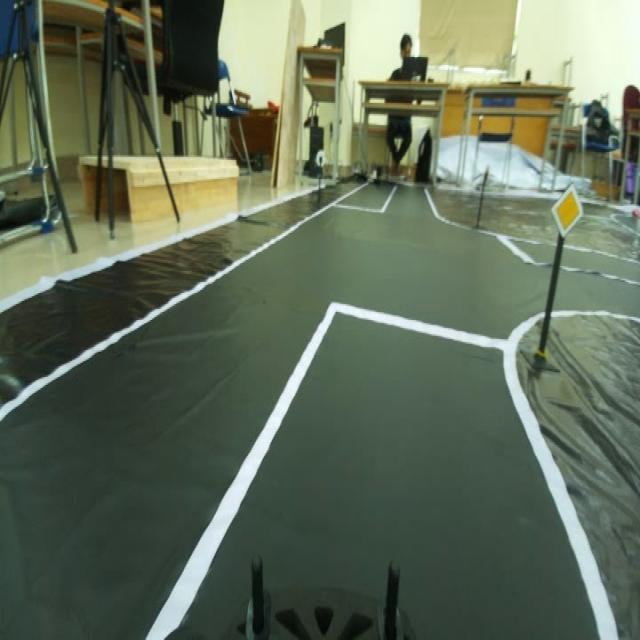priority: (546, 175, 590, 248)
